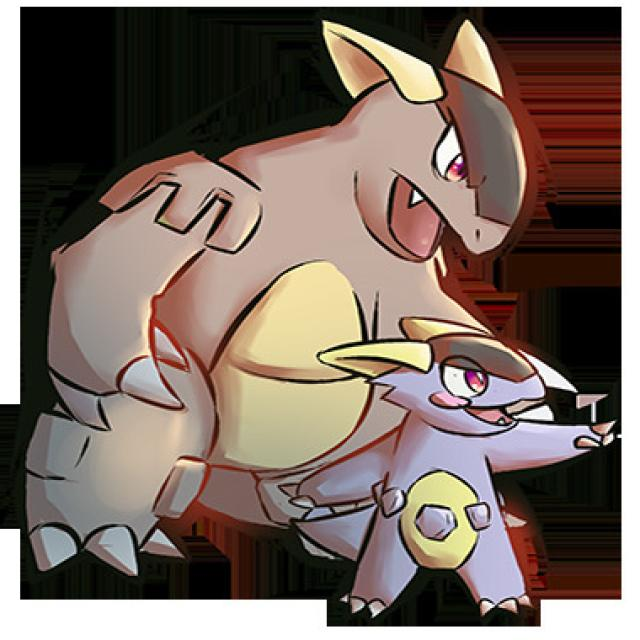Kangaskhan: (30, 19, 521, 573)
